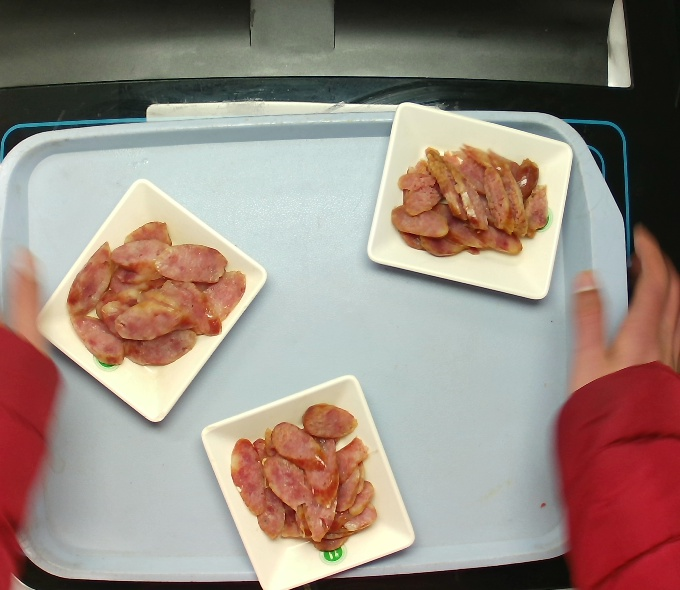wcq-QiePianXiangChang: (63, 222, 248, 366), (223, 405, 382, 552), (390, 136, 554, 267)
